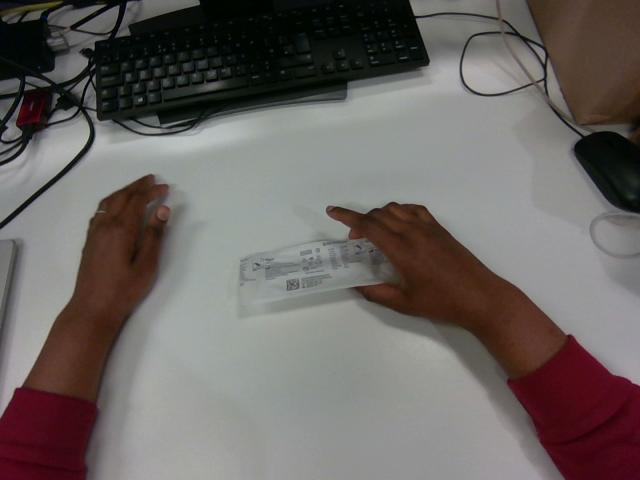syringe: (239, 239, 395, 304)
